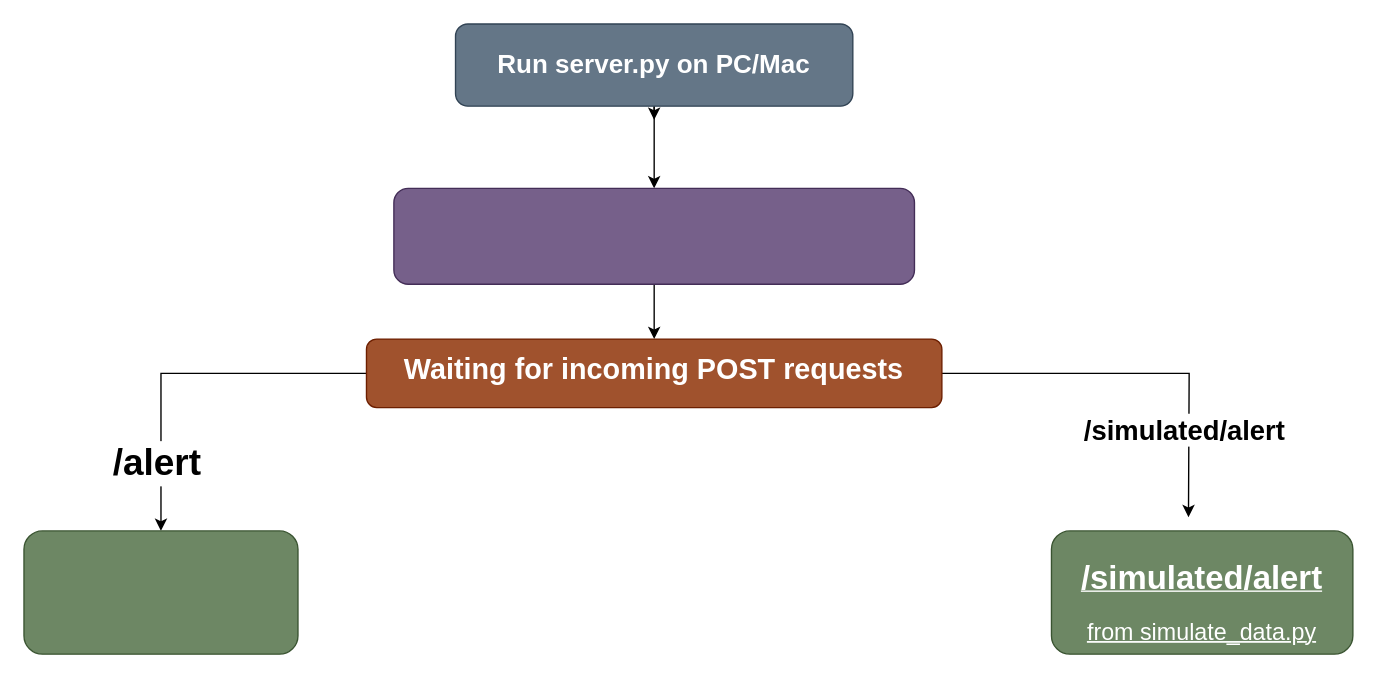
The diagram is 1377 pixels wide and 678 high, and some of its shapes have lost their labels. Here are the shapes that lost their labels. From the top down, the centre of each, then its label:
At pixel 653 235: "Flask app starts listening on port 8000".
At pixel 160 592: "/alert from risk_model.py".
